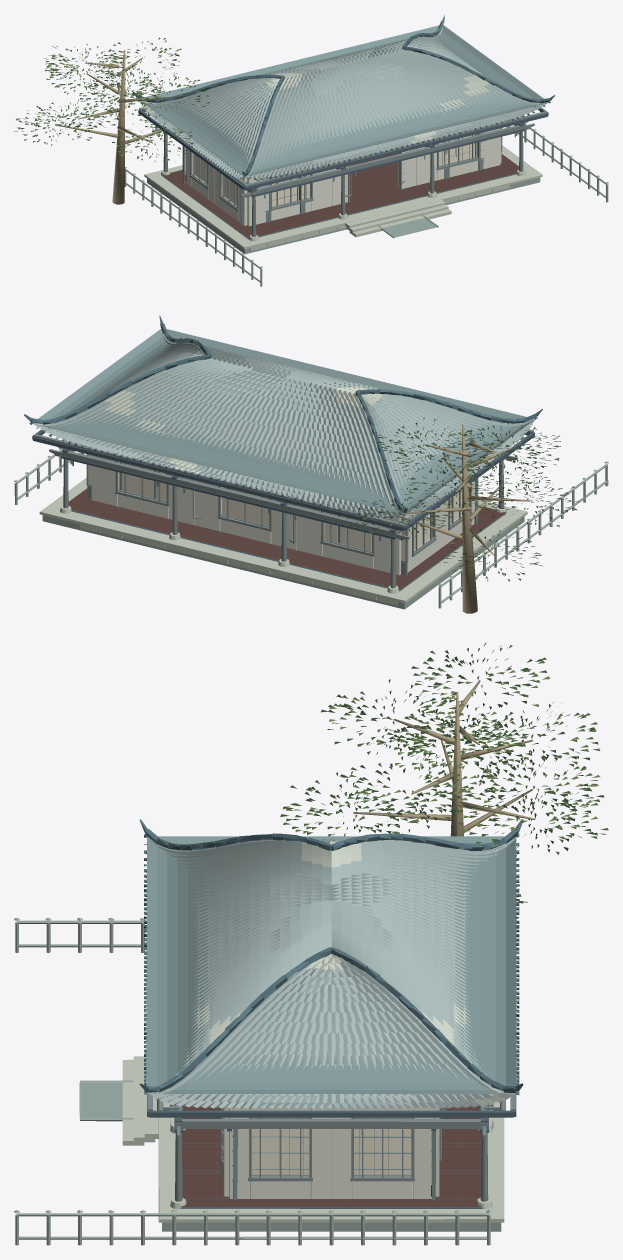
File: aojingxiguan.glb
3 views of the same model, one above another, from view 1: azimuth 30°, elevation 25°; view 2: azimuth 150°, elevation 25°; view 3: azimuth 270°, elevation 25° (orthographic). The views are drawn at different scales.
Parts seen in each view (by area): view 1: r15_aojingxiguan_Sunwen_r18_moon_tile.001, r15_aojingxiguan_Sunwen_r18_moon_roof.001, r15_aojingxiguan_Sunwen_r18_moon_cutstone.001, r15_aojingxiguan_Sunwen_r18_moon_wood.001, Mobile_aojingxiguan_plants, Mobile_aojingxiguan_floorwood, r15_aojingxiguan_Sunwen_r18_moon_plaster.002, r15_aojingxiguan_Sunwen_r18_moon_stone.001, r15_aojingxiguan_Sunwen_r18_moon_darkwood.001, r15_aojingxiguan_Sunwen_r18_moon_tiledark.001, r15_aojingxiguan_Sunwen_r18_moon_screen.002, r15_aojingxiguan_Sunwen_r18_moon_tilelight.001 (+1 smaller); view 2: r15_aojingxiguan_Sunwen_r18_moon_tile.001, r15_aojingxiguan_Sunwen_r18_moon_roof.001, r15_aojingxiguan_Sunwen_r18_moon_wood.001, r15_aojingxiguan_Sunwen_r18_moon_plaster.002, r15_aojingxiguan_Sunwen_r18_moon_cutstone.001, Mobile_aojingxiguan_plants, Mobile_aojingxiguan_floorwood, r15_aojingxiguan_Sunwen_r18_moon_darkwood.001, r15_aojingxiguan_Sunwen_r18_moon_stone.001, r15_aojingxiguan_Sunwen_r18_moon_tiledark.001, r15_aojingxiguan_Sunwen_r18_moon_screen.001, r15_aojingxiguan_Sunwen_r18_moon_tilelight.001 (+1 smaller); view 3: r15_aojingxiguan_Sunwen_r18_moon_tile.001, r15_aojingxiguan_Sunwen_r18_moon_roof.001, Mobile_aojingxiguan_plants, r15_aojingxiguan_Sunwen_r18_moon_stone.001, r15_aojingxiguan_Sunwen_r18_moon_cutstone.001, r15_aojingxiguan_Sunwen_r18_moon_plaster.002, Mobile_aojingxiguan_floorwood, r15_aojingxiguan_Sunwen_r18_moon_wood.001, r15_aojingxiguan_Sunwen_r18_moon_tiledark.001, r15_aojingxiguan_Sunwen_r18_moon_screen.002, r15_aojingxiguan_Sunwen_r18_moon_darkwood.001, r15_aojingxiguan_Sunwen_r18_moon_tilelight.001 (+2 smaller).
Part boxes in pixels (x1=…): r15_aojingxiguan_Sunwen_r18_moon_tile.001: x1=145, y1=34, x2=547, y2=178; r15_aojingxiguan_Sunwen_r18_moon_roof.001: x1=141, y1=25, x2=548, y2=175; r15_aojingxiguan_Sunwen_r18_moon_cutstone.001: x1=144, y1=145, x2=542, y2=250; r15_aojingxiguan_Sunwen_r18_moon_wood.001: x1=139, y1=107, x2=547, y2=236; Mobile_aojingxiguan_plants: x1=14, y1=37, x2=209, y2=204; Mobile_aojingxiguan_floorwood: x1=162, y1=153, x2=518, y2=238; r15_aojingxiguan_Sunwen_r18_moon_plaster.002: x1=185, y1=117, x2=501, y2=226; r15_aojingxiguan_Sunwen_r18_moon_stone.001: x1=124, y1=113, x2=608, y2=286; r15_aojingxiguan_Sunwen_r18_moon_darkwood.001: x1=138, y1=106, x2=548, y2=239; r15_aojingxiguan_Sunwen_r18_moon_tiledark.001: x1=132, y1=15, x2=555, y2=179; r15_aojingxiguan_Sunwen_r18_moon_screen.002: x1=194, y1=134, x2=477, y2=206; r15_aojingxiguan_Sunwen_r18_moon_tilelight.001: x1=140, y1=27, x2=490, y2=143; r15_aojingxiguan_Sunwen_r18_moon_tile.001: x1=33, y1=331, x2=535, y2=516; r15_aojingxiguan_Sunwen_r18_moon_roof.001: x1=32, y1=329, x2=534, y2=514; r15_aojingxiguan_Sunwen_r18_moon_wood.001: x1=33, y1=429, x2=533, y2=588; r15_aojingxiguan_Sunwen_r18_moon_plaster.002: x1=91, y1=440, x2=475, y2=575; r15_aojingxiguan_Sunwen_r18_moon_cutstone.001: x1=39, y1=478, x2=527, y2=605; Mobile_aojingxiguan_plants: x1=348, y1=417, x2=578, y2=613; Mobile_aojingxiguan_floorwood: x1=68, y1=488, x2=505, y2=590; r15_aojingxiguan_Sunwen_r18_moon_darkwood.001: x1=32, y1=427, x2=534, y2=591; r15_aojingxiguan_Sunwen_r18_moon_stone.001: x1=14, y1=449, x2=608, y2=609; r15_aojingxiguan_Sunwen_r18_moon_tiledark.001: x1=24, y1=315, x2=542, y2=518; r15_aojingxiguan_Sunwen_r18_moon_screen.001: x1=88, y1=454, x2=405, y2=560; r15_aojingxiguan_Sunwen_r18_moon_tilelight.001: x1=34, y1=343, x2=415, y2=516; r15_aojingxiguan_Sunwen_r18_moon_tile.001: x1=146, y1=837, x2=517, y2=1109; r15_aojingxiguan_Sunwen_r18_moon_roof.001: x1=147, y1=836, x2=516, y2=1093; Mobile_aojingxiguan_plants: x1=280, y1=642, x2=608, y2=903; r15_aojingxiguan_Sunwen_r18_moon_stone.001: x1=15, y1=920, x2=501, y2=1245; r15_aojingxiguan_Sunwen_r18_moon_cutstone.001: x1=122, y1=1053, x2=504, y2=1222; r15_aojingxiguan_Sunwen_r18_moon_plaster.002: x1=223, y1=1094, x2=439, y2=1198; Mobile_aojingxiguan_floorwood: x1=181, y1=1095, x2=482, y2=1207; r15_aojingxiguan_Sunwen_r18_moon_wood.001: x1=147, y1=1094, x2=515, y2=1201; r15_aojingxiguan_Sunwen_r18_moon_tiledark.001: x1=139, y1=819, x2=523, y2=1095; r15_aojingxiguan_Sunwen_r18_moon_screen.002: x1=251, y1=1129, x2=411, y2=1174; r15_aojingxiguan_Sunwen_r18_moon_darkwood.001: x1=147, y1=1094, x2=516, y2=1208; r15_aojingxiguan_Sunwen_r18_moon_tilelight.001: x1=146, y1=840, x2=517, y2=1106.
Bounding box in the file's own units: 28.33 × 9.15 × 18.92.
